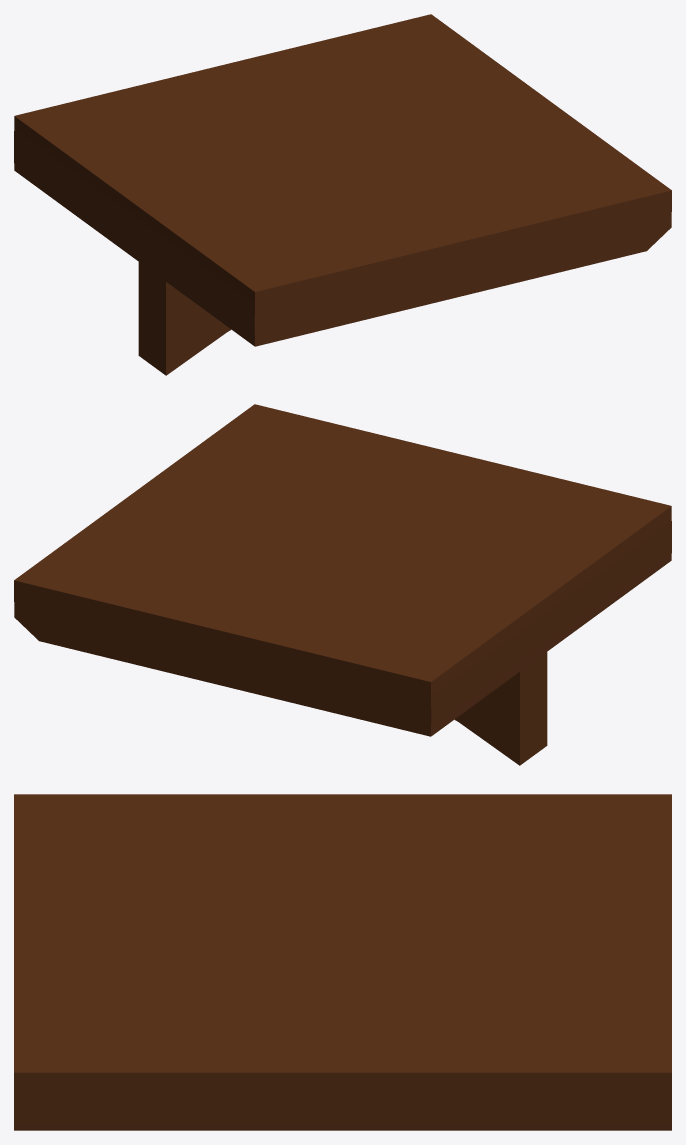
Rendered from Platform.fbx.
The picture shows the model from 3 angles, top to bottom: view 1: azimuth 30°, elevation 25°; view 2: azimuth 150°, elevation 25°; view 3: azimuth 270°, elevation 25°; orthographic projection. The views are drawn at different scales.
Parts seen in each view (by area): view 1: Platform; view 2: Platform; view 3: Platform.
Boxes of the visible parts, x1=… form: Platform: x1=14, y1=14, x2=671, y2=375; Platform: x1=14, y1=404, x2=671, y2=765; Platform: x1=14, y1=794, x2=671, y2=1130.
Bounding box in the file's own units: 100 × 38.07 × 100.
